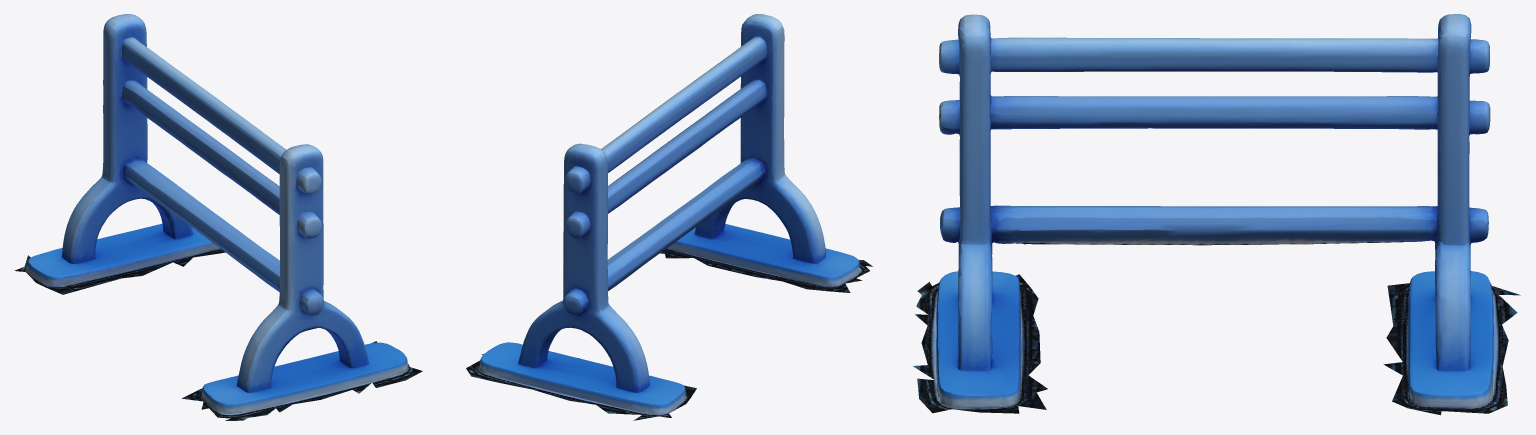
File: police-barricade.glb
3 renders of one model, left to right at view 1: azimuth 30°, elevation 25°; view 2: azimuth 150°, elevation 25°; view 3: azimuth 270°, elevation 25°, orthographic. The views are drawn at different scales.
Visible parts, largest first — view 1: geometry_0; view 2: geometry_0; view 3: geometry_0.
Part boxes in pixels (box(x1,y1,x2,y2)): geometry_0: box(14, 14, 422, 420); geometry_0: box(466, 14, 872, 420); geometry_0: box(913, 14, 1520, 415).
Bounding box in the file's own units: 0.3503 × 0.3704 × 0.6357.
1 material, 1 textured.
